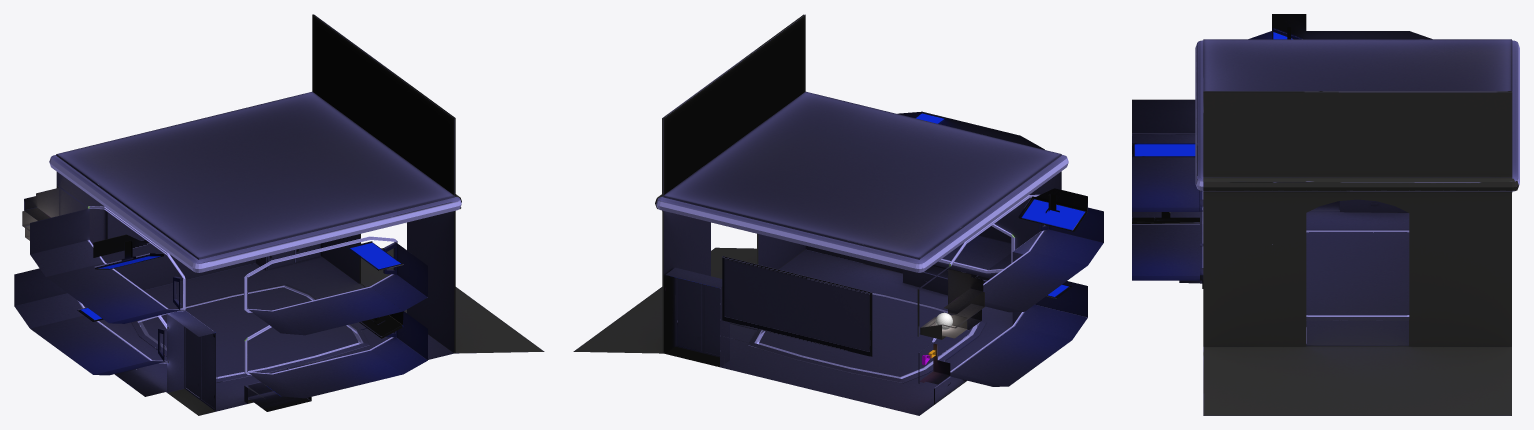
Rendered from room_bake2.fbx.
The picture shows the model from 3 angles, left to right: view 1: azimuth 30°, elevation 25°; view 2: azimuth 150°, elevation 25°; view 3: azimuth 270°, elevation 25°; orthographic projection. The views are drawn at different scales.
Parts seen in each view (by area): view 1: Cuccette; view 2: Cuccette; view 3: Cuccette.
Boxes of the visible parts, left/top/right/bottom form: Cuccette: left=14, top=14, right=544, bottom=415; Cuccette: left=573, top=14, right=1103, bottom=415; Cuccette: left=1132, top=14, right=1519, bottom=415.
Bounding box in the file's own units: 17.99 × 10.86 × 13.78.
